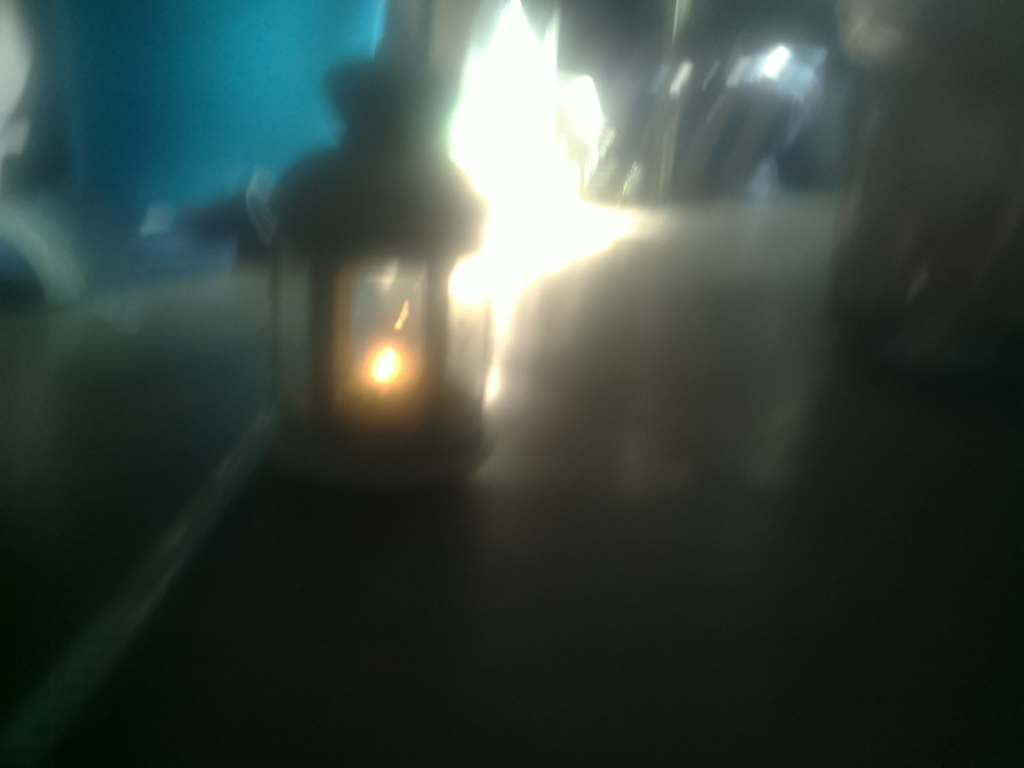fire: (344, 320, 425, 413)
